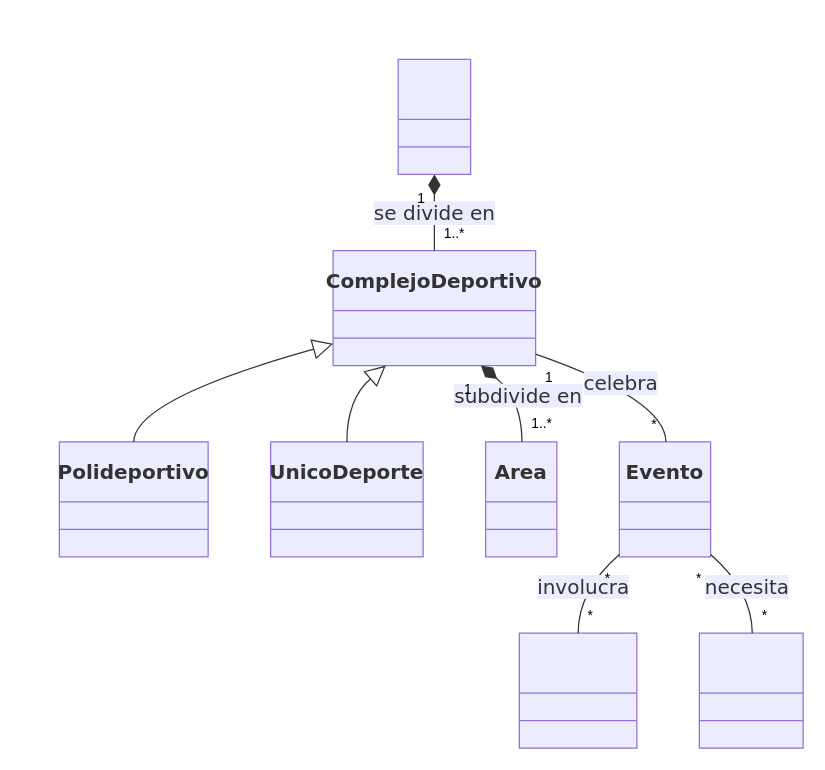
The diagram is 825 pixels wide and 770 high, and some of its shapes have lost their labels. The shapes that lost their labels are listed below. From the top down, each one's box as (x1, y1, x2, y2) in pixels, then its label:
(397, 58, 471, 174): Sede
(518, 632, 637, 748): Comisario
(698, 632, 803, 748): Material
